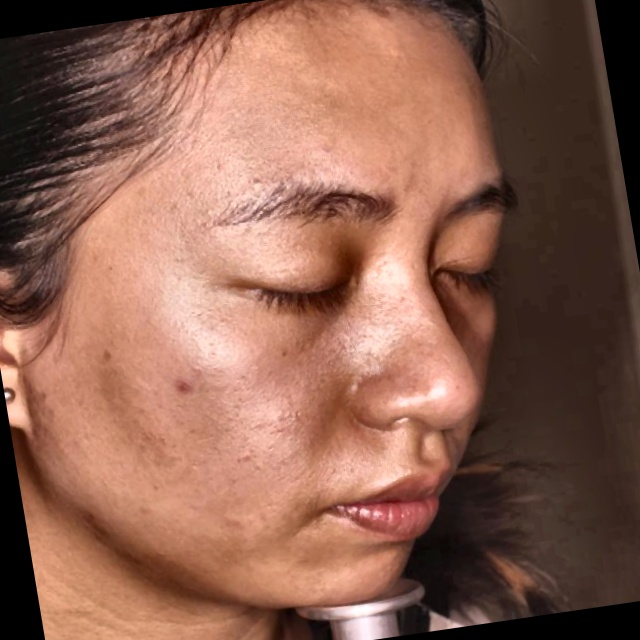comedone: (168, 375, 195, 401)
